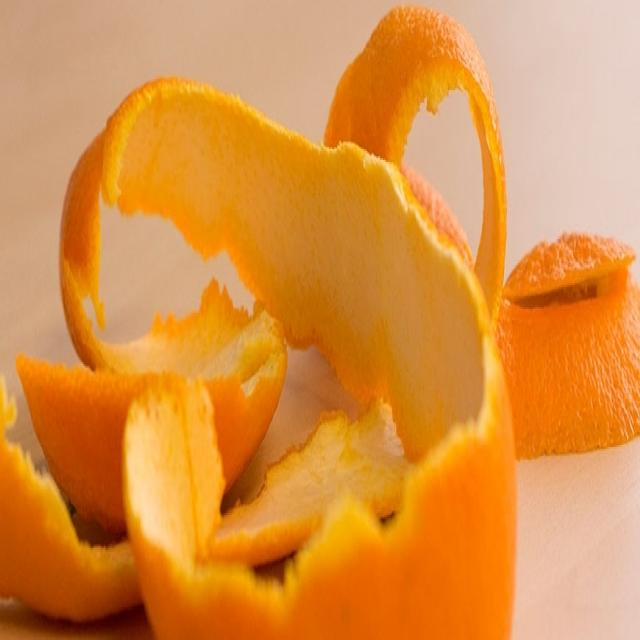Cascara de naranja: (60, 74, 519, 640), (17, 282, 282, 511), (323, 6, 508, 329), (0, 370, 143, 612)
